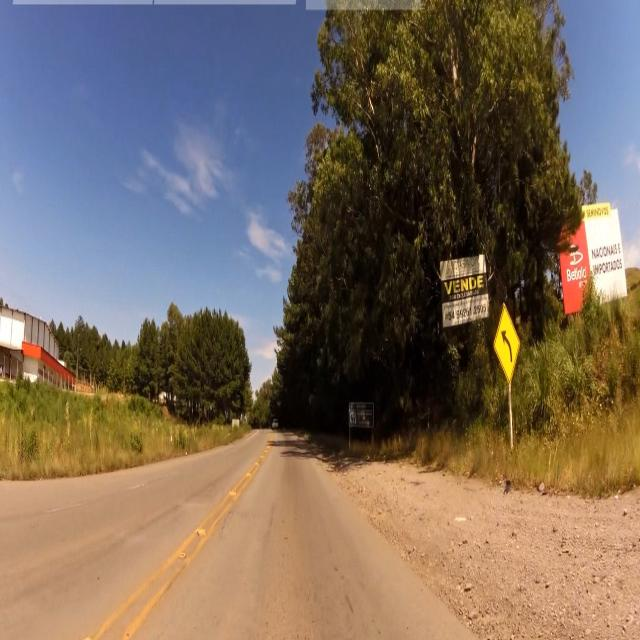A-2a: (492, 304, 522, 382)
